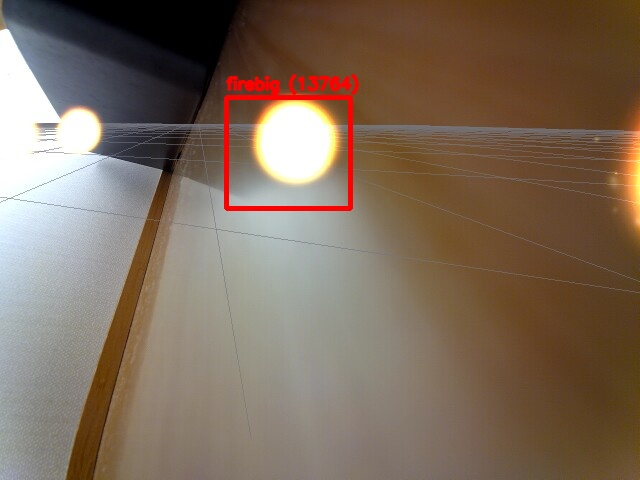firebig: (226, 97, 350, 208)
